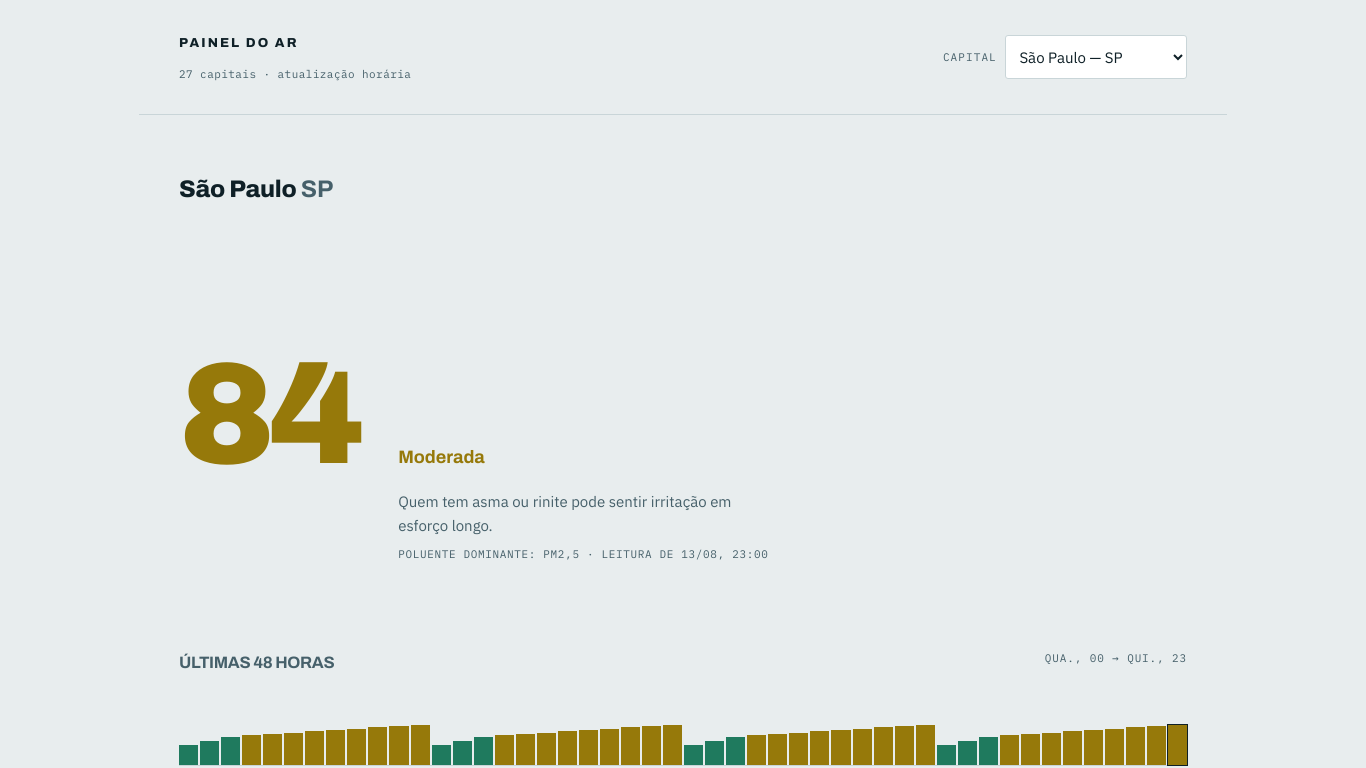
Scenario: App › troca de cidade pelo seletor e mantém a escolha na URL
The image size is (1366, 768).
Expected: the text "asma ou rinite" is shown, [398,492,731,535]
Select "Curitiba — PR" in the dropdown labelled "Capital". click: (1096, 57)
box: [1005,35,1187,79]
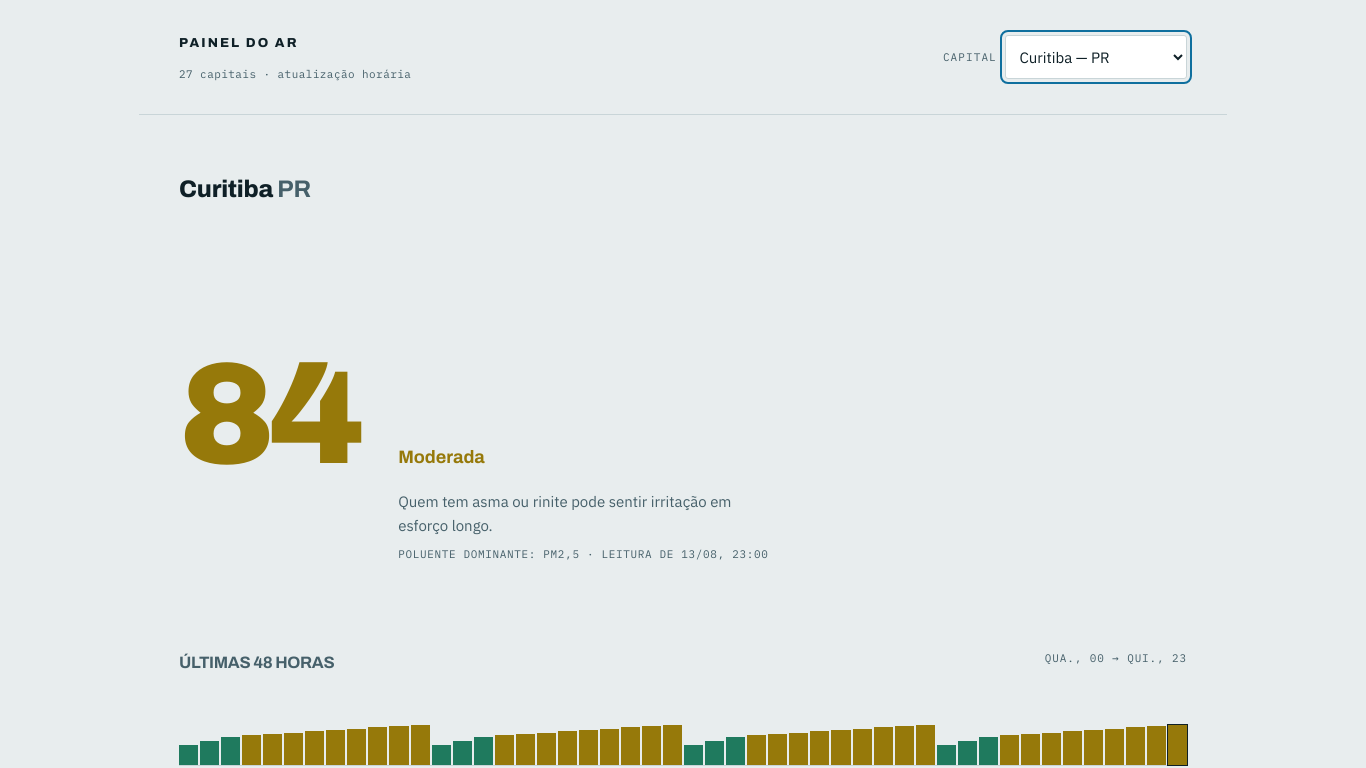
Result: the heading "Curitiba PR" is shown at [179,176,311,202]
